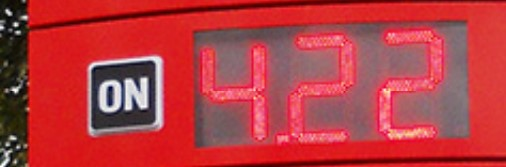digits: (196, 35, 273, 148), (283, 27, 358, 142), (378, 28, 448, 140)
